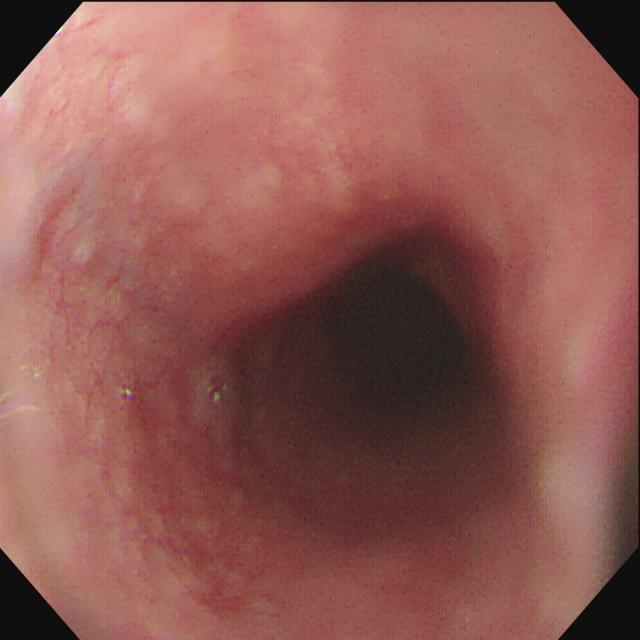E: (294, 259, 482, 457)
